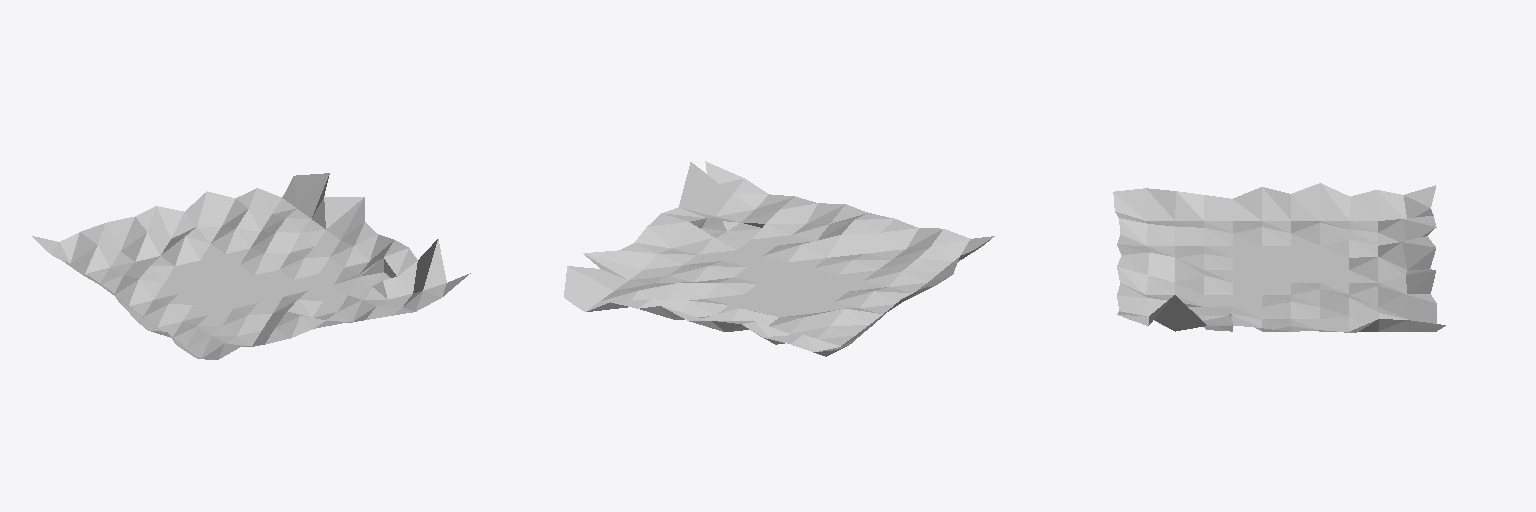
The model's file is Ground.obj.
3 renders of one model, left to right at view 1: azimuth 30°, elevation 25°; view 2: azimuth 150°, elevation 25°; view 3: azimuth 270°, elevation 25°, orthographic.
Visible parts, largest first — view 1: 平面; view 2: 平面; view 3: 平面.
Part boxes in pixels (x1,y1,x2,y2): 平面: (32, 173, 470, 359); 平面: (564, 161, 994, 356); 平面: (1113, 183, 1445, 332).
Size of the model in its own units: 2.12 by 0.3396 by 2.09.